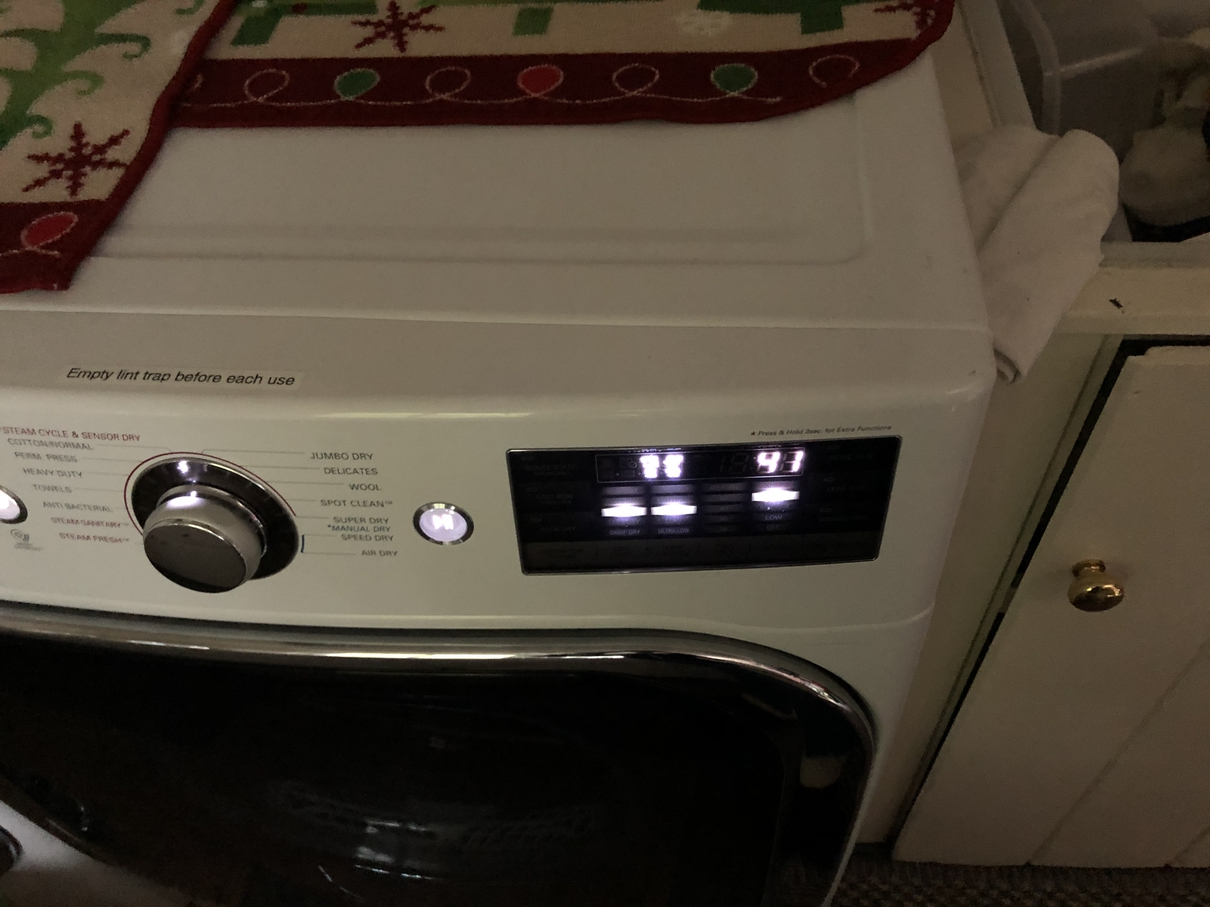status: (580, 438, 814, 495)
